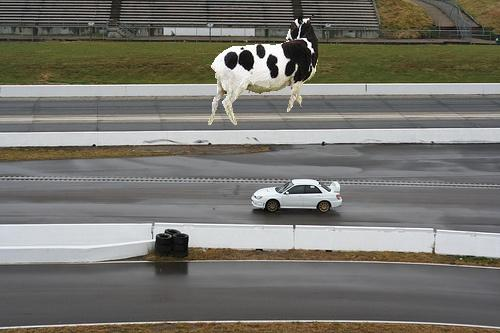tampered: (209, 15, 318, 125)
